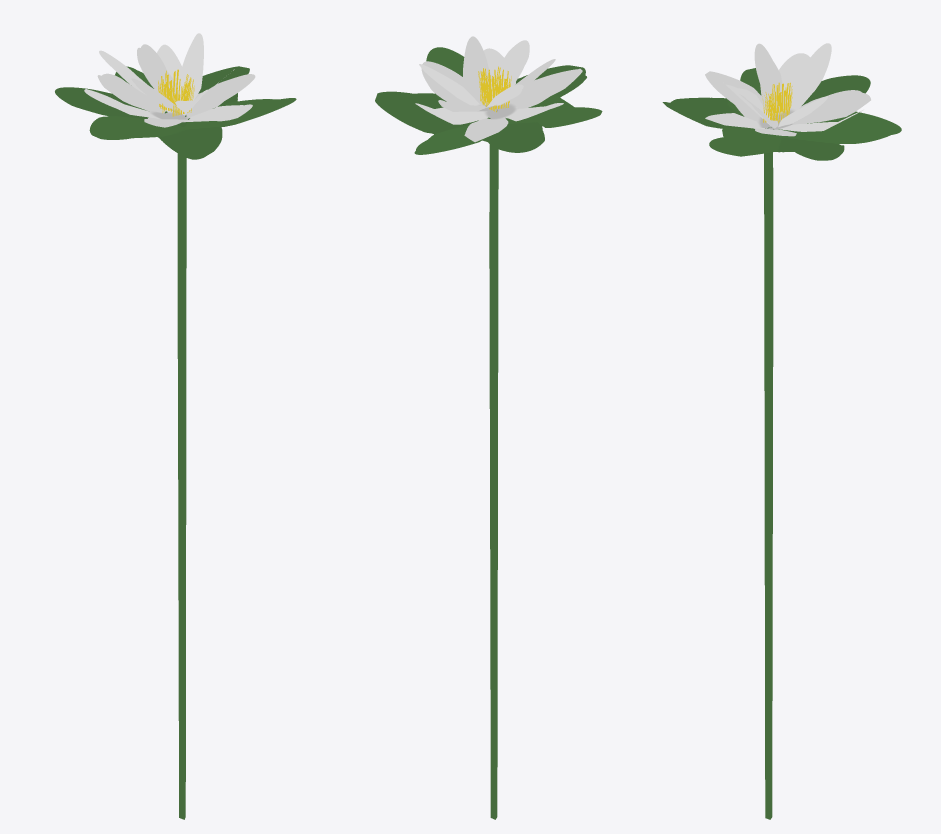
The model's file is PT_Waterlily_03.fbx.
3 views of the same model, side by side, from view 1: azimuth 30°, elevation 25°; view 2: azimuth 150°, elevation 25°; view 3: azimuth 270°, elevation 25° (orthographic). The views are drawn at different scales.
Parts seen in each view (by area): view 1: PT_WaterLily_03_LOD0; view 2: PT_WaterLily_03_LOD0; view 3: PT_WaterLily_03_LOD0.
Boxes of the visible parts, x1=… form: PT_WaterLily_03_LOD0: x1=55, y1=33, x2=296, y2=819; PT_WaterLily_03_LOD0: x1=375, y1=36, x2=602, y2=819; PT_WaterLily_03_LOD0: x1=662, y1=43, x2=901, y2=819.
Size of what is drawn, in the model's own units: 53.11 by 158 by 52.18.
